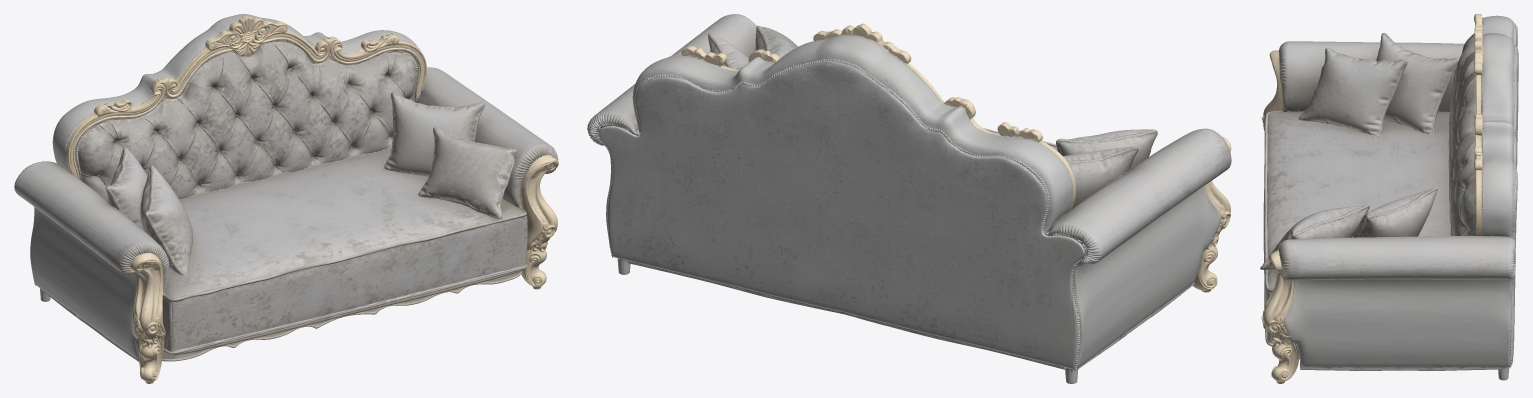
The model's file is Korona.glb.
3 renders of one model, left to right at view 1: azimuth 30°, elevation 25°; view 2: azimuth 150°, elevation 25°; view 3: azimuth 270°, elevation 25°, orthographic. The views are drawn at different scales.
Visible parts, largest first — view 1: tripo_node_b59dff3f-c3e2-4182-a4ab-e2b68e94c318; view 2: tripo_node_b59dff3f-c3e2-4182-a4ab-e2b68e94c318; view 3: tripo_node_b59dff3f-c3e2-4182-a4ab-e2b68e94c318.
Part boxes in pixels (box(x1,y1,x2,y2)): tripo_node_b59dff3f-c3e2-4182-a4ab-e2b68e94c318: box(14, 14, 558, 383); tripo_node_b59dff3f-c3e2-4182-a4ab-e2b68e94c318: box(587, 14, 1231, 383); tripo_node_b59dff3f-c3e2-4182-a4ab-e2b68e94c318: box(1260, 14, 1518, 383).
Size of the model in its own units: 0.9798 by 0.5293 by 0.4881.
Materials: 1 (1 with a texture image).
